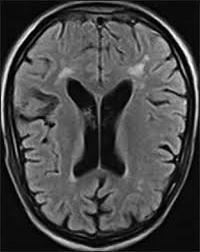Normal_Brain: (1, 1, 200, 252)
